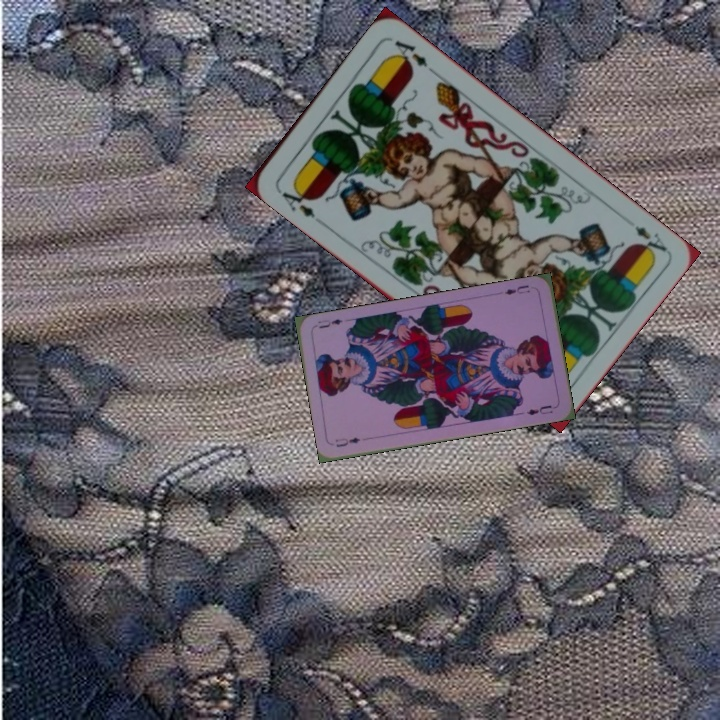EA: (273, 181, 318, 221), (630, 221, 670, 260)
EU: (331, 433, 363, 450), (501, 281, 532, 298)
